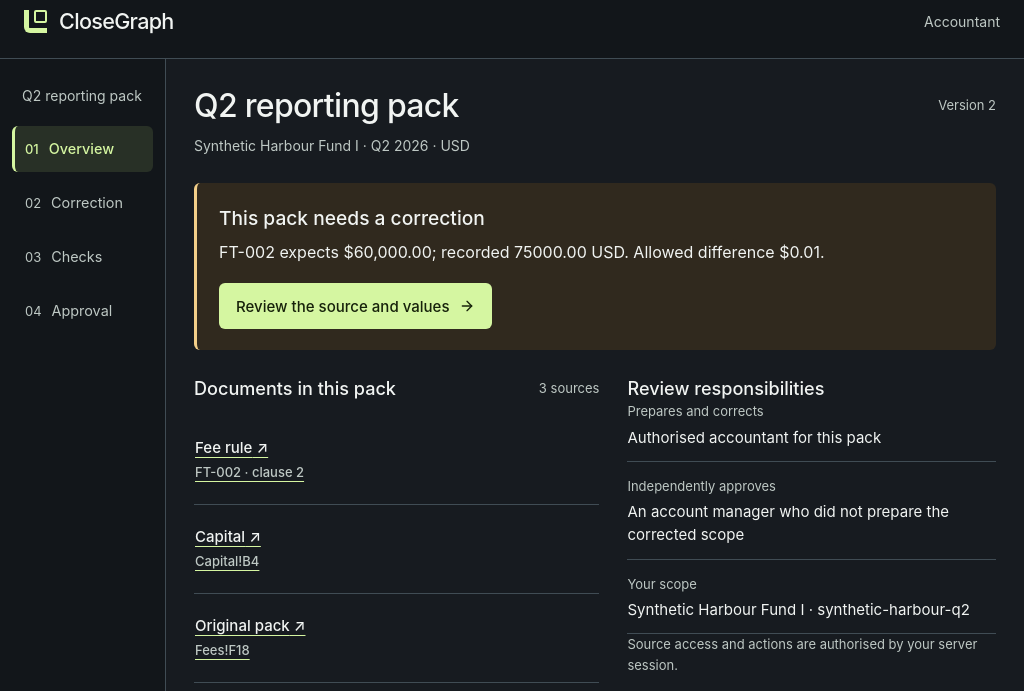
Scenario: reviewer workspace › preserves a failed repair and separates completion from approval
This screenshot has width=1024, height=691.
Click the link "03 Checks" at (64,257), box top-left (25, 248), bottom-right (102, 265)
(page scrolled)
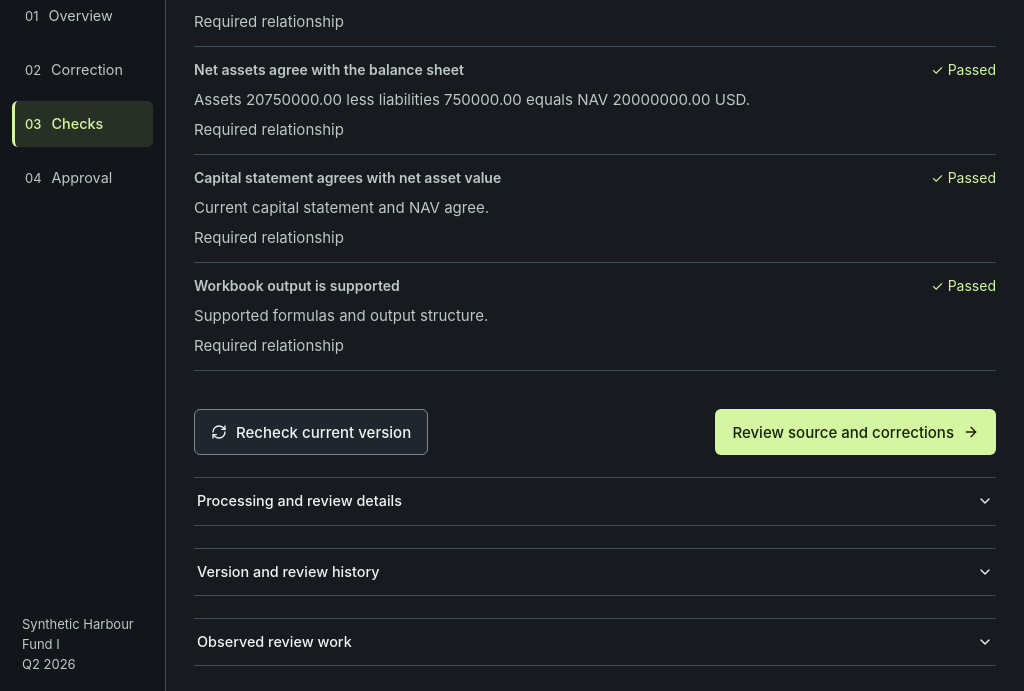
Click the button "Processing and review details" at (299,501), box top-left (194, 478), bottom-right (996, 526)
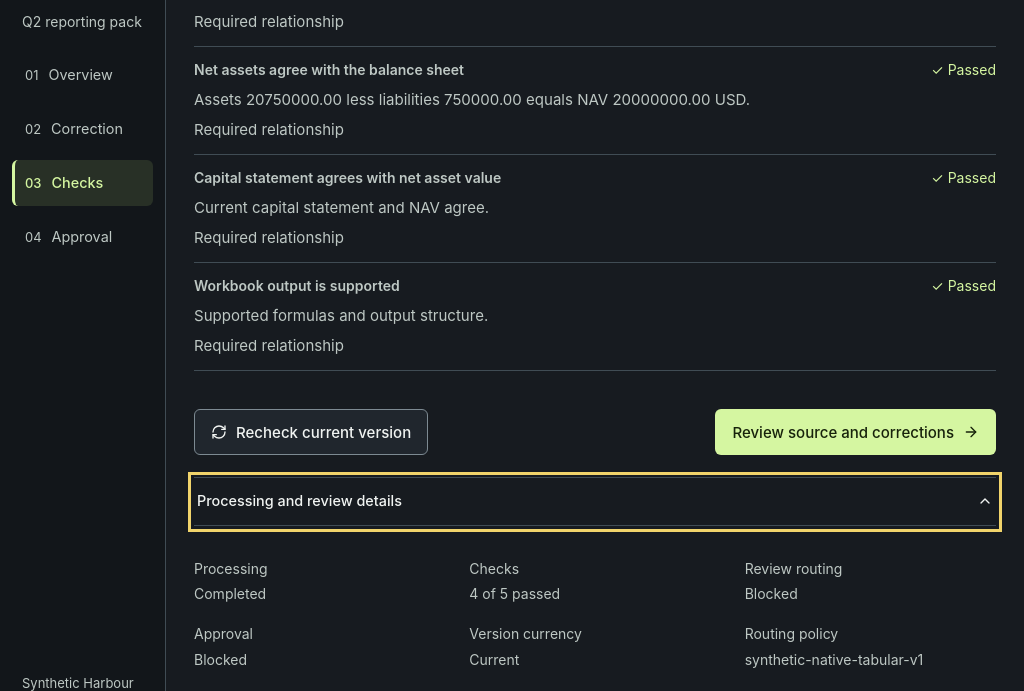
Expected: the text "Completed" is shown, top-left (194, 585), bottom-right (266, 602)
Expected: the text "Blocked" below "Review routing" is shown, top-left (745, 585), bottom-right (798, 602)
